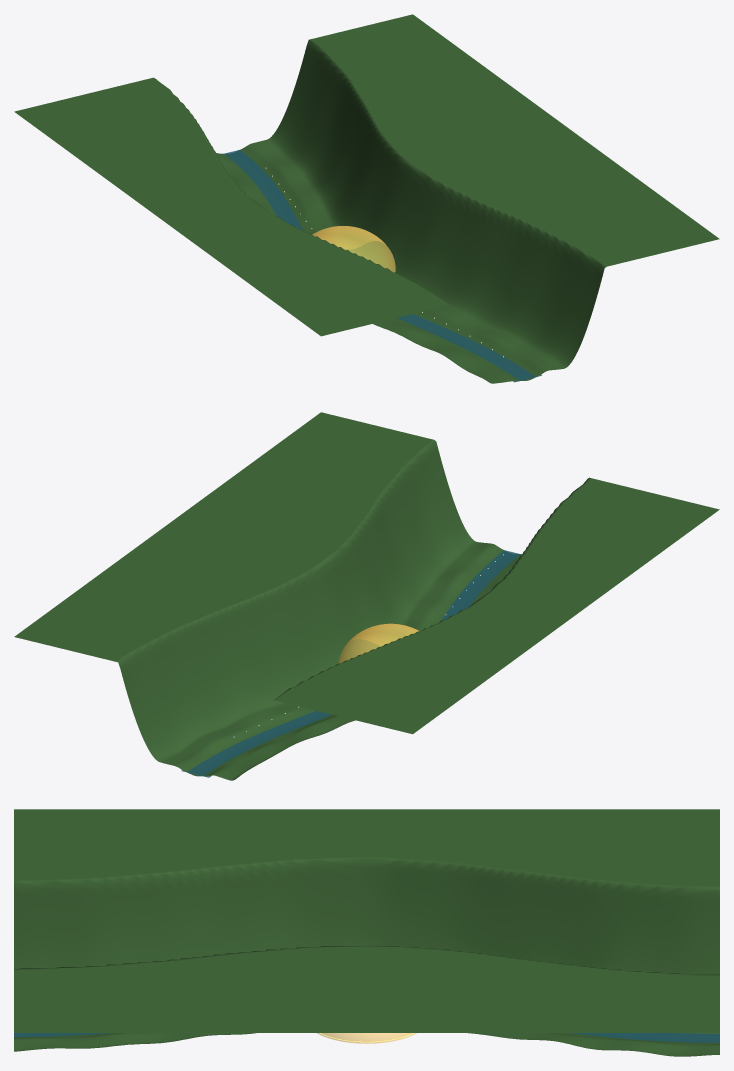
The model's file is houbara_flight_01_arabian_oasis.glb.
The picture shows the model from 3 angles, top to bottom: view 1: azimuth 30°, elevation 25°; view 2: azimuth 150°, elevation 25°; view 3: azimuth 270°, elevation 25°; orthographic projection. The views are drawn at different scales.
Visible parts, largest first — view 1: Terrain_01_arabian_oasis, River_Water, Golden_Checkpoint_Dome; view 2: Terrain_01_arabian_oasis, River_Water, Golden_Checkpoint_Dome; view 3: Terrain_01_arabian_oasis, River_Water, Golden_Checkpoint_Dome.
Boxes of the visible parts, x1=… form: Terrain_01_arabian_oasis: x1=14, y1=14, x2=719, y2=383; River_Water: x1=224, y1=150, x2=541, y2=382; Golden_Checkpoint_Dome: x1=312, y1=226, x2=395, y2=272; Terrain_01_arabian_oasis: x1=14, y1=412, x2=719, y2=780; River_Water: x1=181, y1=550, x2=520, y2=777; Golden_Checkpoint_Dome: x1=338, y1=623, x2=419, y2=663; Terrain_01_arabian_oasis: x1=14, y1=809, x2=719, y2=1056; River_Water: x1=14, y1=1033, x2=719, y2=1043; Golden_Checkpoint_Dome: x1=317, y1=1033, x2=416, y2=1043.
Size of the model in its own units: 540 by 123 by 720.
